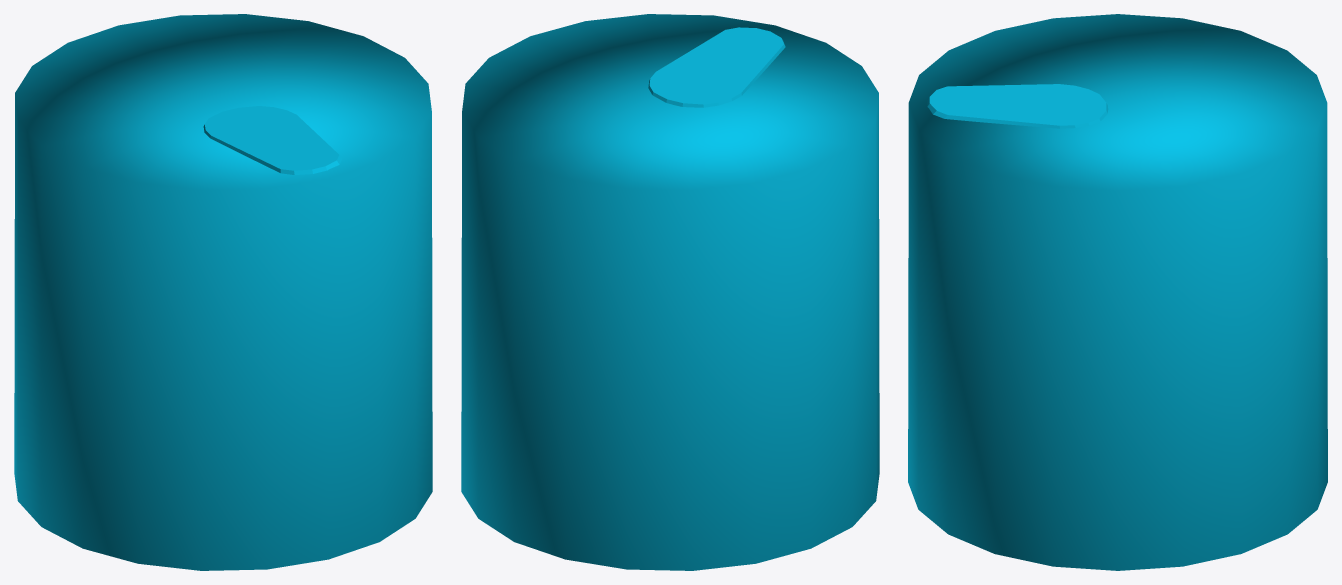
File: Canned_Food_01_Lod0.fbx
3 views of the same model, side by side, from view 1: azimuth 30°, elevation 25°; view 2: azimuth 150°, elevation 25°; view 3: azimuth 270°, elevation 25° (orthographic).
Parts seen in each view (by area): view 1: Canned_Food_01_Lod0; view 2: Canned_Food_01_Lod0; view 3: Canned_Food_01_Lod0.
Part boxes in pixels (left/top/right/bottom): Canned_Food_01_Lod0: left=14, top=14, right=432, bottom=570; Canned_Food_01_Lod0: left=461, top=14, right=879, bottom=570; Canned_Food_01_Lod0: left=908, top=14, right=1327, bottom=570.
Bounding box in the file's own units: 11.62 × 11.69 × 11.62.
